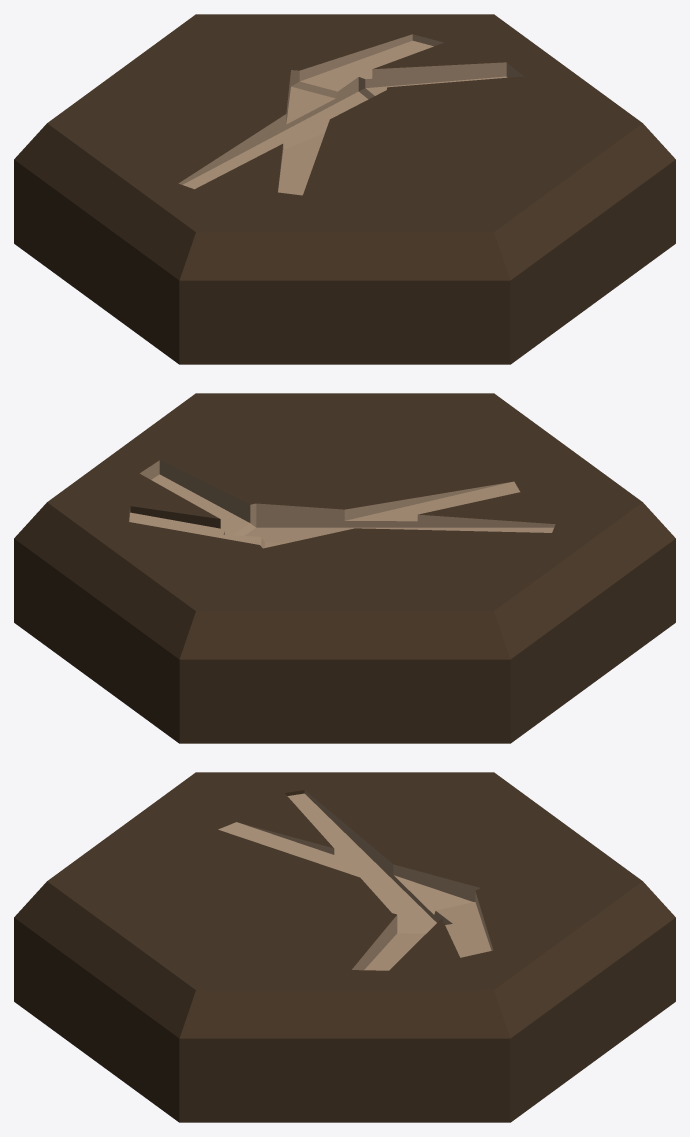
Rendered from Rune Legs.fbx.
3 views of the same model, one above another, from view 1: azimuth 30°, elevation 25°; view 2: azimuth 150°, elevation 25°; view 3: azimuth 270°, elevation 25° (orthographic).
Visible parts, largest first — view 1: Rune Legs; view 2: Rune Legs; view 3: Rune Legs.
Part boxes in pixels (x1=…): Rune Legs: x1=14, y1=14, x2=675, y2=364; Rune Legs: x1=14, y1=393, x2=675, y2=743; Rune Legs: x1=14, y1=772, x2=675, y2=1122.
Bounding box in the file's own units: 42.96 × 9.96 × 49.6.
